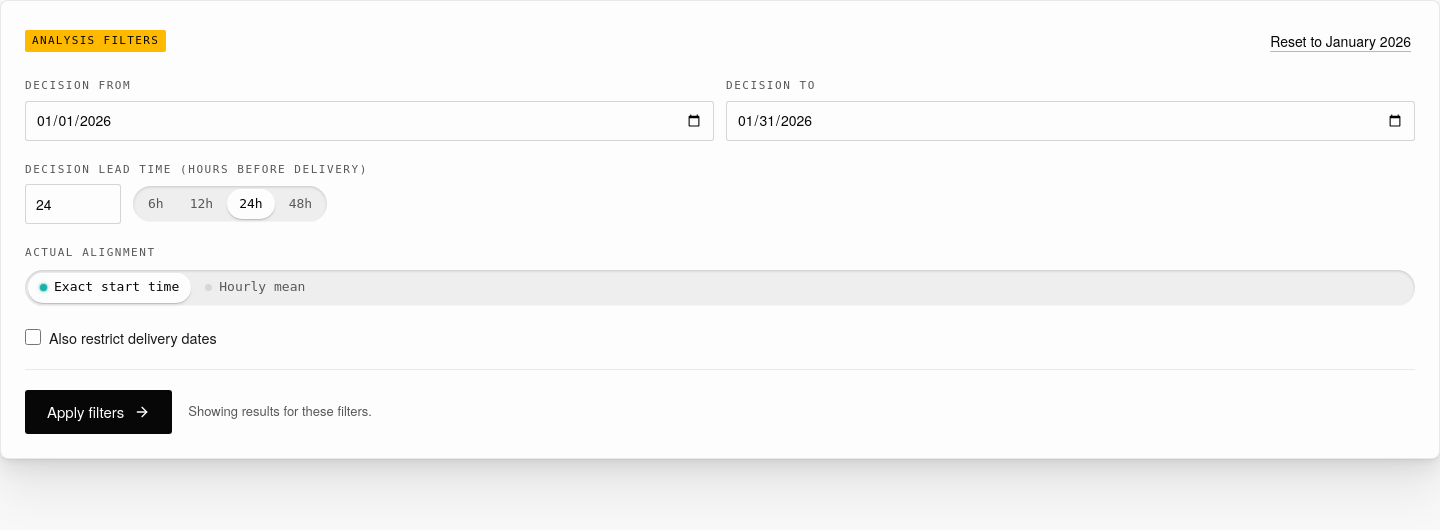
FilterPanel › blocks invalid input with an inline error
Type "2025-12-01" into the date field labelled "Decision to" at [1070, 121], box [726,101,1415,141]
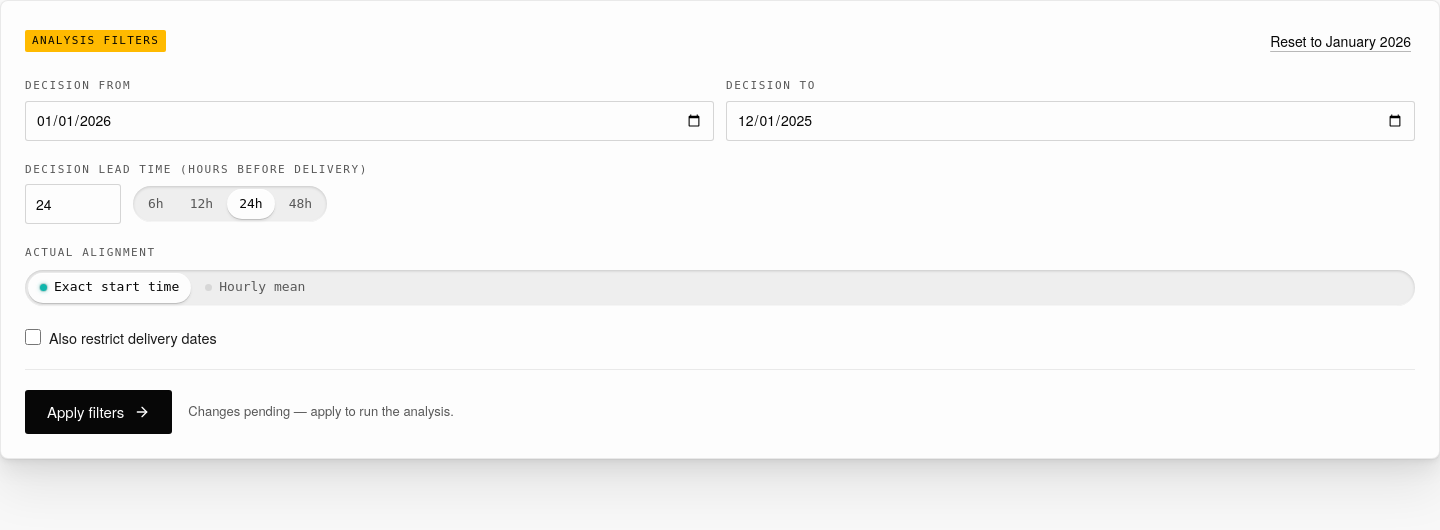
Click the button "Apply filters" at [99, 412], box [25,390,172,434]
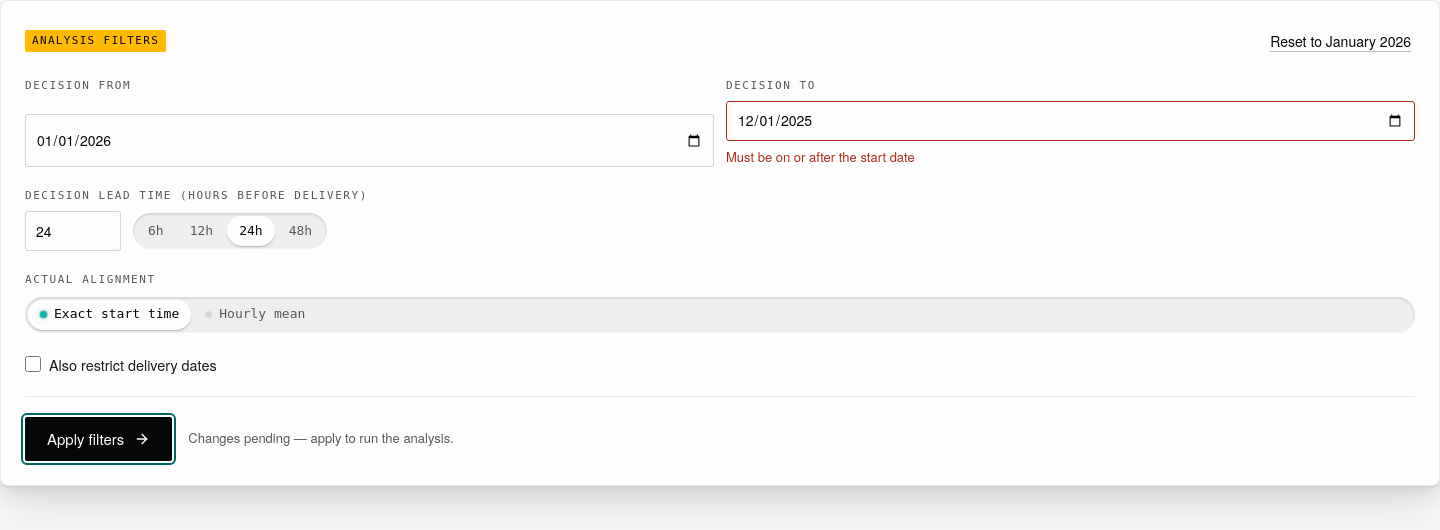
Now the message shows "on or after", box [726,147,915,166]
